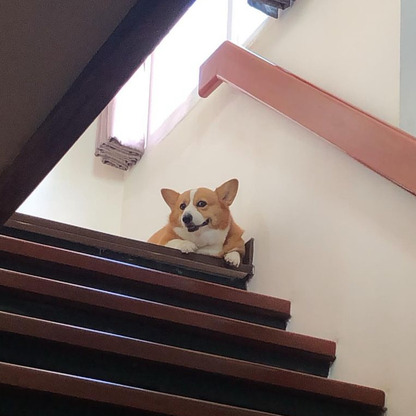Corgi: (131, 168, 256, 273)
